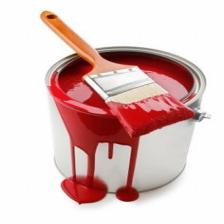red: (48, 51, 196, 137), (56, 102, 139, 188), (61, 176, 107, 204), (78, 113, 122, 136), (117, 187, 139, 202)
